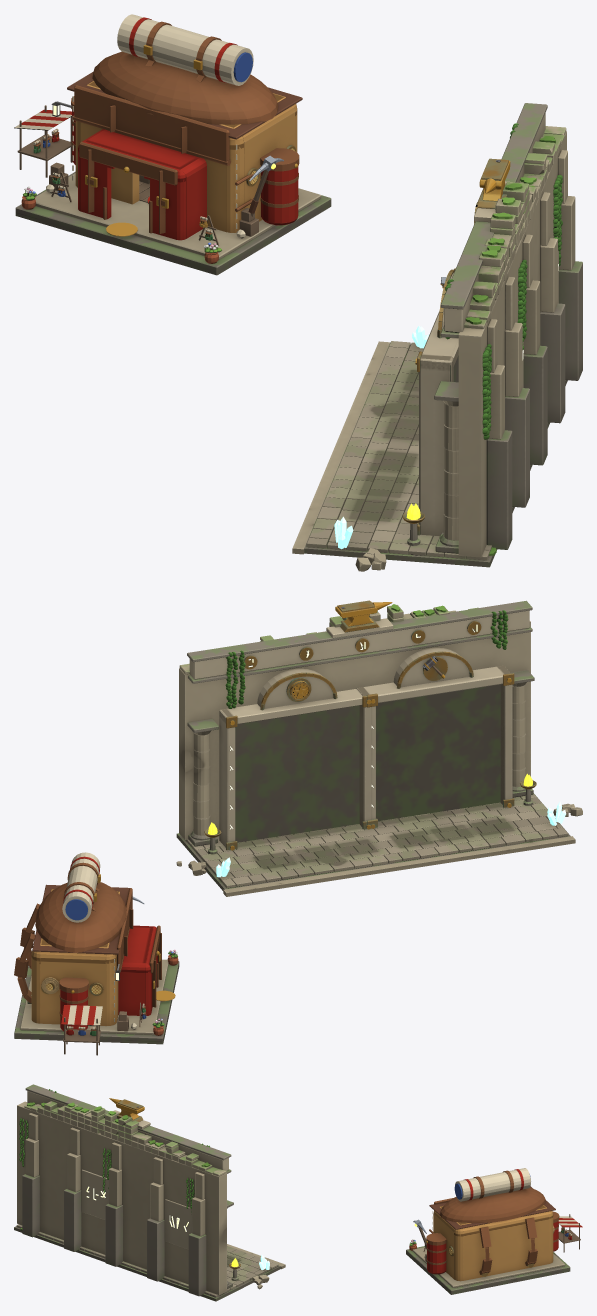
Rendered from LOBBY_SN_05_SERVICES_d9f901.fbx.
The picture shows the model from 3 angles, top to bottom: view 1: azimuth 30°, elevation 25°; view 2: azimuth 150°, elevation 25°; view 3: azimuth 270°, elevation 25°; orthographic projection. The views are drawn at different scales.
Parts seen in each view (by area): view 1: WB_Rank_Tablets__SNB_Rank_1, WB_Shop_Temple__SNB_Shop_1, WB_Rank_Tablets_01__SNB_Rank_2, WB_Shop_Temple_01__SNB_Shop_2; view 2: WB_Rank_Tablets_01__SNB_Rank_2, WB_Rank_Tablets__SNB_Rank_1, WB_Shop_Temple_01__SNB_Shop_2, WB_Shop_Temple__SNB_Shop_1; view 3: WB_Rank_Tablets__SNB_Rank_1, WB_Rank_Tablets_01__SNB_Rank_2, WB_Shop_Temple_01__SNB_Shop_2, WB_Shop_Temple__SNB_Shop_1.
Part boxes in pixels (x1,y1,x2,y2): WB_Rank_Tablets__SNB_Rank_1: (306, 131, 566, 571); WB_Shop_Temple__SNB_Shop_1: (15, 36, 331, 275); WB_Rank_Tablets_01__SNB_Rank_2: (292, 103, 582, 567); WB_Shop_Temple_01__SNB_Shop_2: (14, 14, 294, 221); WB_Rank_Tablets_01__SNB_Rank_2: (176, 600, 575, 896); WB_Rank_Tablets__SNB_Rank_1: (179, 602, 582, 847); WB_Shop_Temple_01__SNB_Shop_2: (14, 852, 164, 1055); WB_Shop_Temple__SNB_Shop_1: (14, 856, 179, 1044); WB_Rank_Tablets__SNB_Rank_1: (16, 1089, 226, 1294); WB_Rank_Tablets_01__SNB_Rank_2: (14, 1084, 285, 1301); WB_Shop_Temple_01__SNB_Shop_2: (434, 1168, 582, 1280); WB_Shop_Temple__SNB_Shop_1: (406, 1176, 570, 1294).
Bounding box in the file's own units: 65.05 × 44.35 × 147.
Materials: 12 (6 with a texture image).
